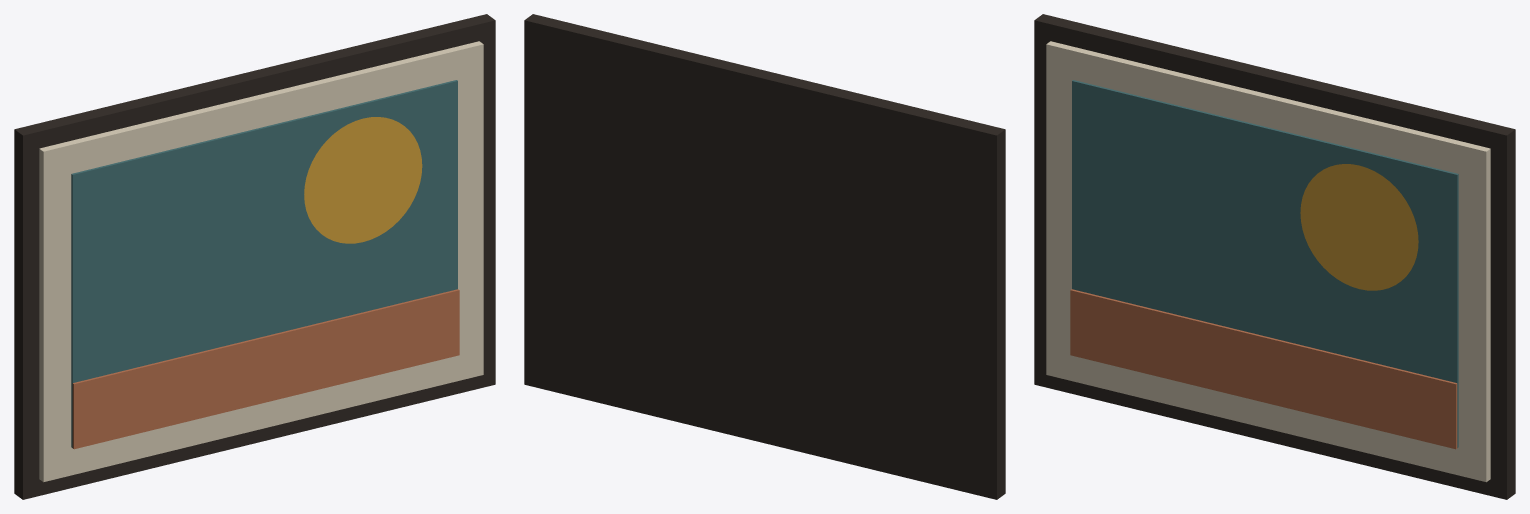
The picture shows the model from 3 angles, left to right: view 1: azimuth 30°, elevation 25°; view 2: azimuth 150°, elevation 25°; view 3: azimuth 330°, elevation 25°; orthographic projection.
Bounding box in the file's own units: 0.76 × 0.56 × 0.046.
